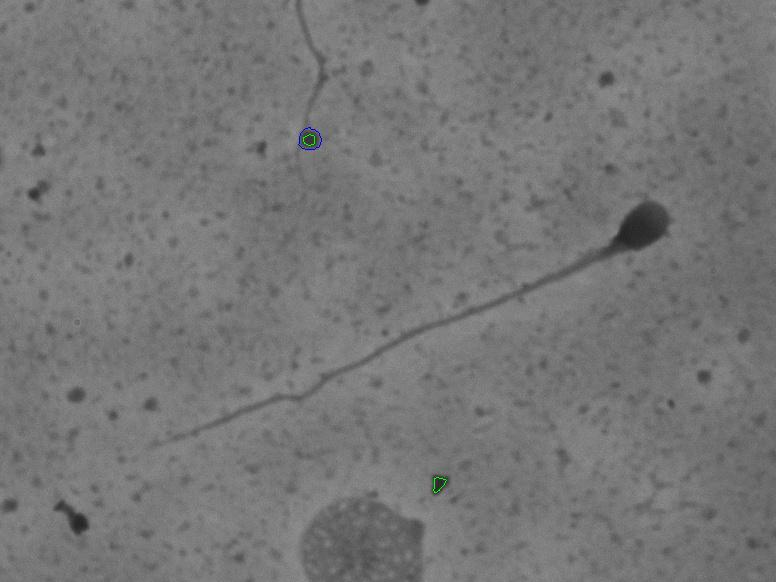Normal: (123, 168, 692, 473)
